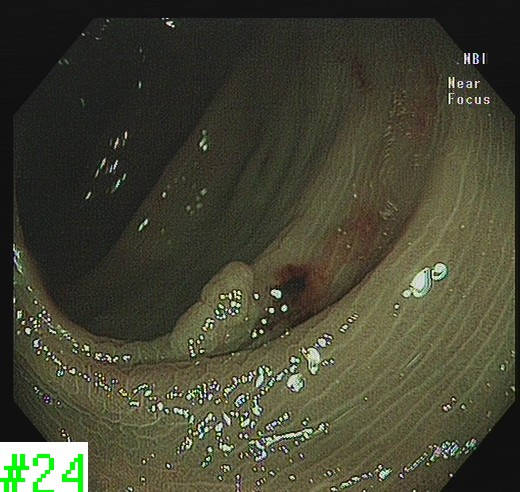adenoma: (170, 259, 255, 359)
